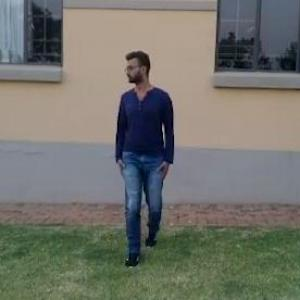follow: (106, 39, 180, 273)
